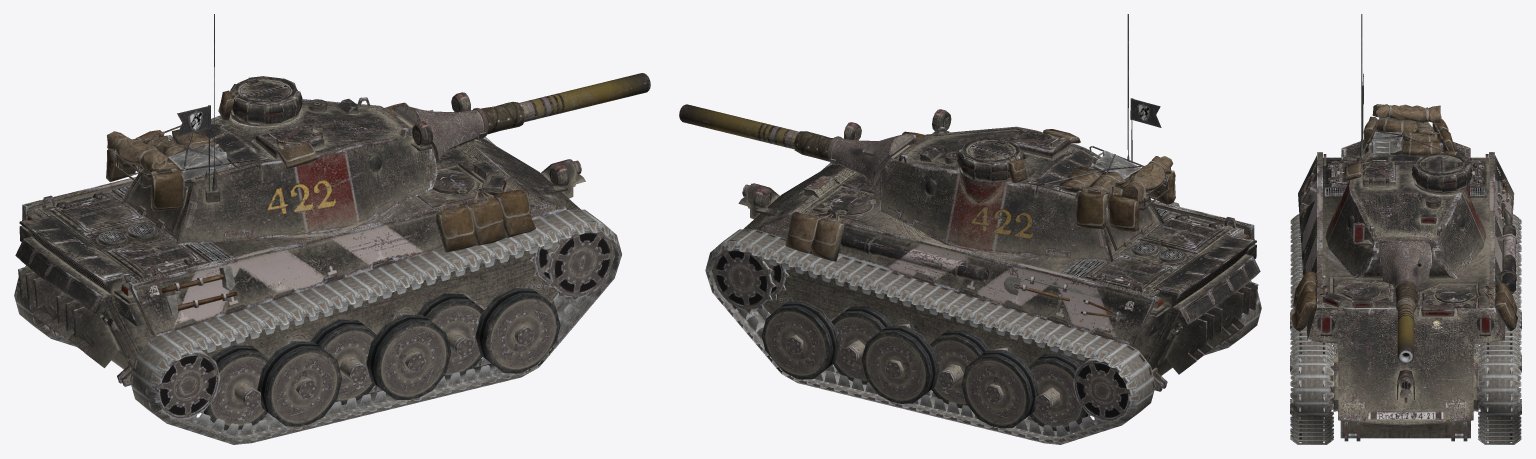
Rendered from ZDS21104.glb.
The picture shows the model from 3 angles, left to right: view 1: azimuth 30°, elevation 25°; view 2: azimuth 150°, elevation 25°; view 3: azimuth 270°, elevation 25°; orthographic projection. The views are drawn at different scales.
Parts seen in each view (by area): view 1: SM_hull_5, SM_chassis_wheels.001_2, SM_turret_01_6, SM_chassis_track_R_1, SM_hull_nc_8, SM_turret_01_nc_9, SM_gun_01_mask_4, SM_gun_01_3, SM_chassis_track_L_0; view 2: SM_hull_5, SM_chassis_wheels.001_2, SM_turret_01_6, SM_chassis_track_L_0, SM_hull_nc_8, SM_turret_01_nc_9, SM_gun_01_mask_4, SM_gun_01_3, SM_chassis_track_R_1; view 3: SM_hull_5, SM_turret_01_6, SM_hull_nc_8, SM_turret_01_nc_9, SM_chassis_track_R_1, SM_chassis_track_L_0, SM_gun_01_mask_4, SM_gun_01_3, SM_chassis_wheels.001_2.
Boxes of the visible parts, x1=… form: SM_hull_5: x1=15, y1=138, x2=580, y2=369; SM_chassis_wheels.001_2: x1=45, y1=221, x2=614, y2=430; SM_turret_01_6: x1=120, y1=76, x2=437, y2=245; SM_chassis_track_R_1: x1=130, y1=209, x2=621, y2=444; SM_hull_nc_8: x1=18, y1=92, x2=585, y2=386; SM_turret_01_nc_9: x1=106, y1=14, x2=432, y2=229; SM_gun_01_mask_4: x1=392, y1=101, x2=525, y2=160; SM_gun_01_3: x1=519, y1=73, x2=650, y2=122; SM_chassis_track_L_0: x1=14, y1=137, x2=495, y2=346; SM_hull_5: x1=743, y1=143, x2=1260, y2=375; SM_chassis_wheels.001_2: x1=712, y1=240, x2=1232, y2=431; SM_turret_01_6: x1=874, y1=126, x2=1164, y2=262; SM_chassis_track_L_0: x1=705, y1=229, x2=1155, y2=444; SM_hull_nc_8: x1=738, y1=122, x2=1258, y2=391; SM_turret_01_nc_9: x1=898, y1=14, x2=1175, y2=247; SM_gun_01_mask_4: x1=794, y1=131, x2=915, y2=184; SM_gun_01_3: x1=679, y1=104, x2=799, y2=149; SM_chassis_track_R_1: x1=821, y1=163, x2=1261, y2=355; SM_hull_5: x1=1298, y1=140, x2=1514, y2=438; SM_turret_01_6: x1=1325, y1=147, x2=1486, y2=279; SM_hull_nc_8: x1=1291, y1=154, x2=1517, y2=441; SM_turret_01_nc_9: x1=1344, y1=14, x2=1457, y2=248; SM_chassis_track_R_1: x1=1290, y1=214, x2=1333, y2=444; SM_chassis_track_L_0: x1=1478, y1=214, x2=1521, y2=444; SM_gun_01_mask_4: x1=1379, y1=240, x2=1432, y2=311; SM_gun_01_3: x1=1397, y1=299, x2=1413, y2=363; SM_chassis_wheels.001_2: x1=1290, y1=241, x2=1521, y2=441.
Bounding box in the file's own units: 7.91 × 5 × 3.25.
Materials: 2 (2 with a texture image).
